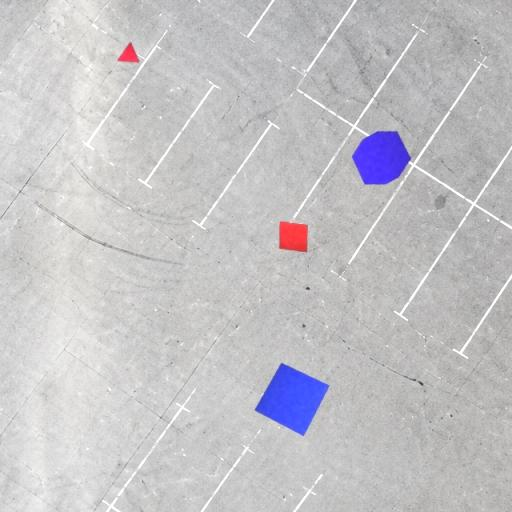BLUE_SQUARE: (254, 362, 330, 437)
RED_SQUARE: (278, 221, 308, 253)
